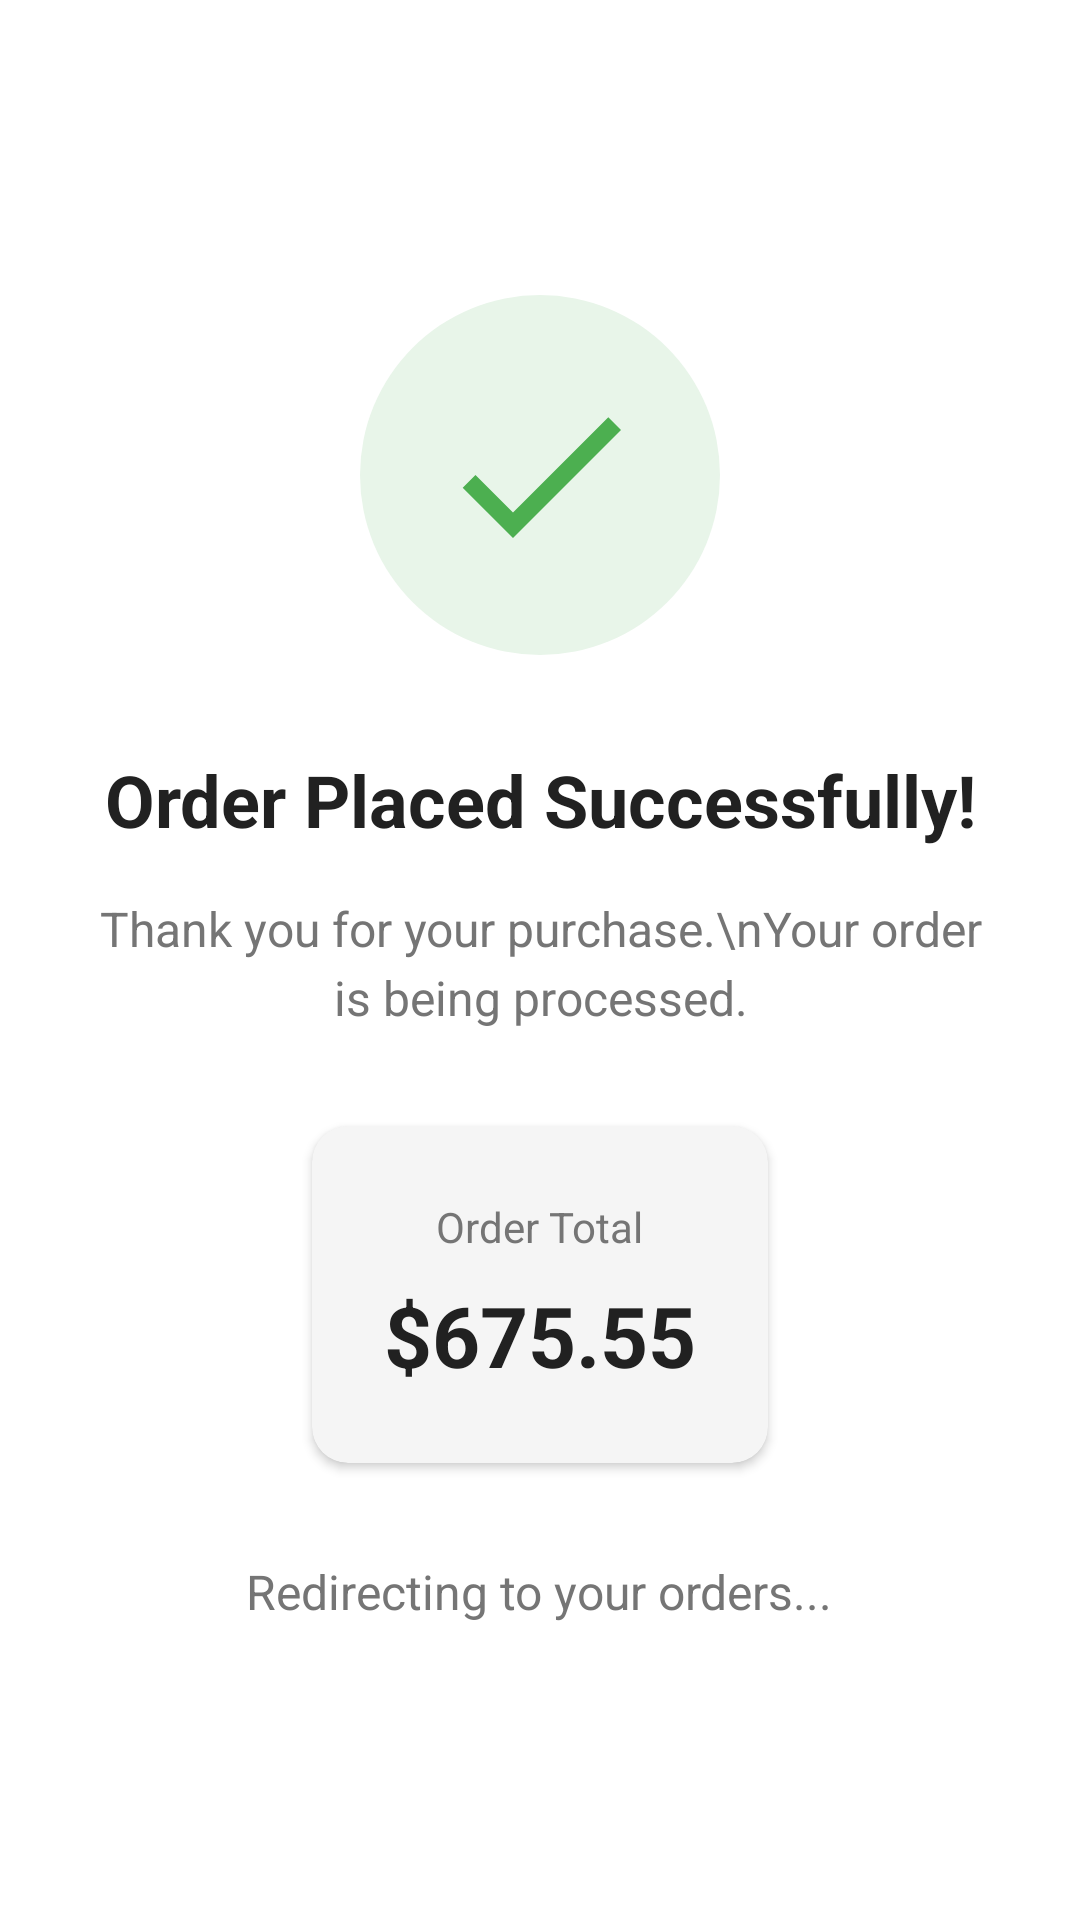

Named icons in this screenshot (1080*1920) and their bounding boxes, (x1, y1, x2, y2):
check circle: (360, 295, 720, 655)
